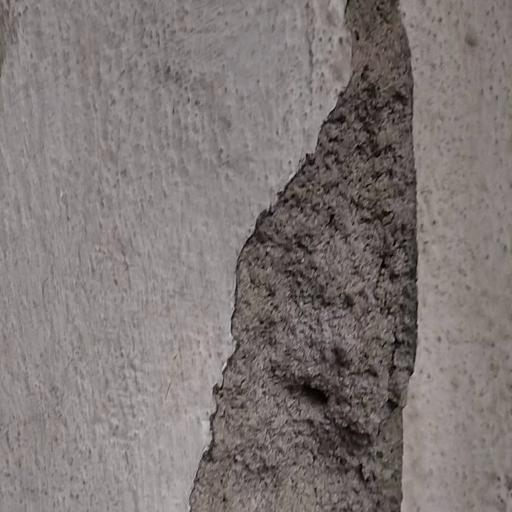spalling: (190, 0, 424, 512)
